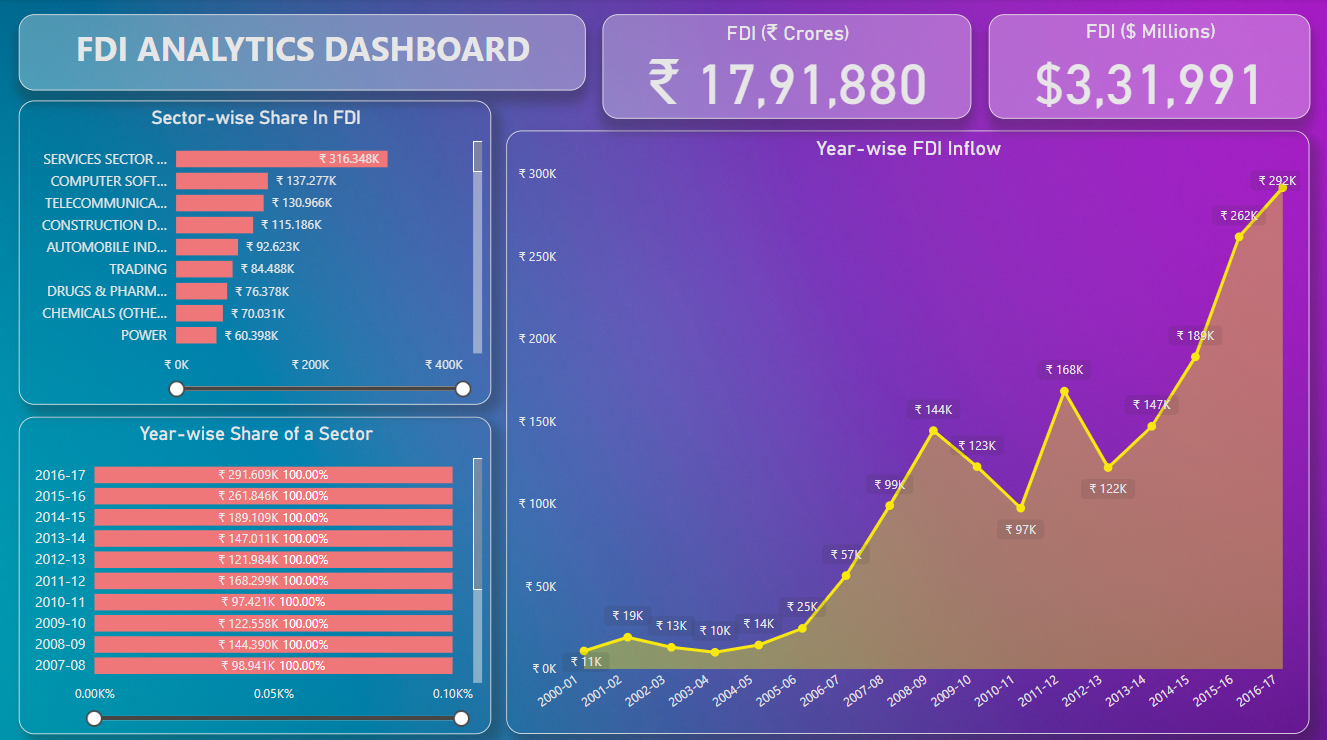

The page's visual inventory and layout, read from the dashboard file:
{"tool":"powerbi","page":{"name":"Sector-wise & Year-wise  FDI Inflow","canvas":[1280,720],"ordinal":0},"visuals":[{"type":"areaChart","title":"Year-wise FDI Inflow","fields":{"Category":["Sheet1.Year"],"Y":["Sum(Sheet1.FDI(₹ Crores))"]},"box":[489,127.6,775.3,582.5],"z":0},{"type":"hundredPercentStackedBarChart","title":"Year-wise Share of a Sector","fields":{"Y":["Sum(Sheet1.FDI(₹ Crores))"],"Category":["Sheet1.Year"]},"box":[18.4,403.9,456.4,306.1],"z":1000},{"type":"card","title":"FDI (₹ Crores)","fields":{"Values":["Imp Insights.Total FDI"]},"box":[581.1,15.6,355.7,100.6],"z":2000},{"type":"card","title":"FDI ($ Millions)","fields":{"Values":["Sum(Sheet1.FDI(US$ Million))"]},"box":[953.9,15.6,310.4,100.6],"z":3000},{"type":"textbox","box":[18.4,15.6,547.1,73.7],"z":5000},{"type":"barChart","title":"Sector-wise Share In FDI","fields":{"Category":["FDI.Sector"],"Y":["Imp Insights.Total FDI"]},"box":[18.4,99.2,456.4,293.4],"z":6000}]}

Visuals, with their boxes in screenshot pixels (x1, y1, x2, y2), scaled from the page's 1280x720 canvas onto the 1327x740 screenshot:
"Year-wise FDI Inflow" areaChart: (507, 131, 1311, 730)
"Year-wise Share of a Sector" hundredPercentStackedBarChart: (19, 415, 492, 730)
"FDI (₹ Crores)" card: (602, 16, 971, 119)
"FDI ($ Millions)" card: (989, 16, 1311, 119)
textbox: (19, 16, 586, 92)
"Sector-wise Share In FDI" barChart: (19, 102, 492, 404)
